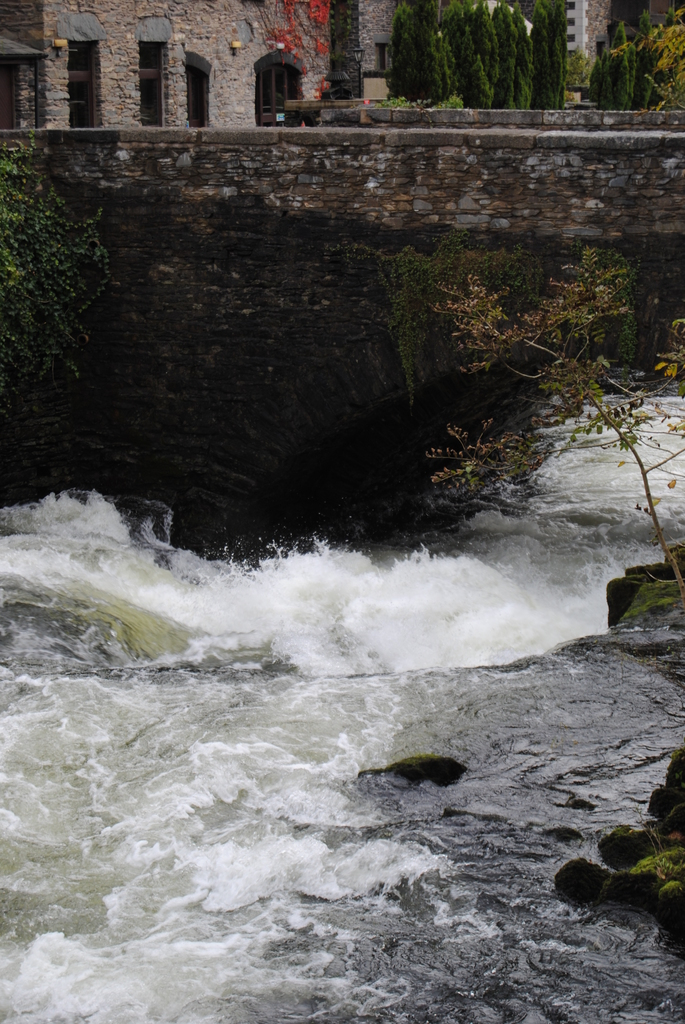Tree: (438, 243, 684, 616), (386, 2, 567, 105), (590, 5, 681, 105)
